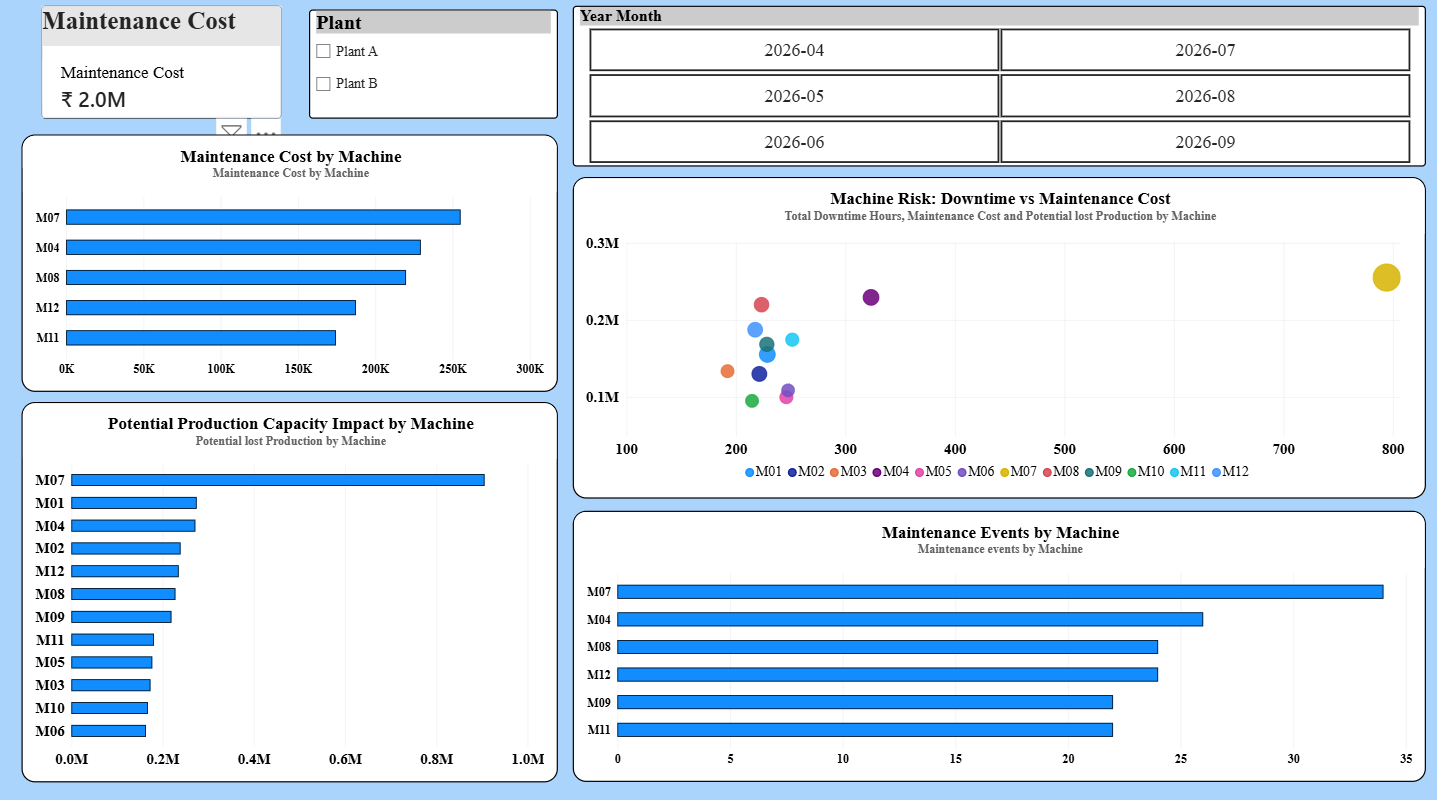

This screenshot's page, from the dashboard's own definition file:
{"tool":"powerbi","page":{"name":"Machine Performance & Risk","canvas":[1920,1080],"ordinal":2},"visuals":[{"type":"cardVisual","title":"Maintenance Cost","fields":{"Data":["Maintenance cleaned.Maintenance Cost"]},"box":[56.9,11.7,319.9,150.7],"z":0},{"type":"clusteredBarChart","title":"Maintenance Cost by Machine","fields":{"Category":["Machine Master cleaned.Machine"],"Y":["Maintenance cleaned.Maintenance Cost"]},"box":[30.1,182.6,715.2,343.4],"z":1000},{"type":"clusteredBarChart","title":"Maintenance Events by Machine","fields":{"Category":["Machine Master cleaned.Machine"],"Y":["Maintenance cleaned.Maintenance events"]},"box":[765.5,685.1,1137.3,361.8],"z":2000},{"type":"barChart","title":"Potential Production Capacity Impact by Machine","fields":{"Category":["Machine Master cleaned.Machine"],"Y":["Downtime cleaned.Potential lost Production"]},"box":[30.1,539.3,715.2,507.5],"z":3000},{"type":"slicer","fields":{"Values":["Date.Year Month"]},"box":[765.5,11.7,1137.3,214.4],"z":4000},{"type":"slicer","fields":{"Values":["Machine Master cleaned.Plant"]},"box":[413.7,16.7,331.6,145.7],"z":5000},{"type":"scatterChart","title":"Machine Risk: Downtime vs Maintenance Cost","fields":{"Series":["Machine Master cleaned.Machine"],"Size":["Downtime cleaned.Potential lost Production"],"X":["Downtime cleaned.Total Downtime Hours"],"Y":["Maintenance cleaned.Maintenance Cost"]},"box":[765.5,239.5,1137.3,428.8],"z":6000}]}

Visuals, with their boxes in screenshot pixels (x1, y1, x2, y2), scaled from the page's 1920x1080 canvas onto the 1437x800 screenshot:
"Maintenance Cost" cardVisual: pyautogui.locateOnScreen(43, 9, 282, 120)
"Maintenance Cost by Machine" clusteredBarChart: pyautogui.locateOnScreen(23, 135, 558, 390)
"Maintenance Events by Machine" clusteredBarChart: pyautogui.locateOnScreen(573, 507, 1424, 775)
"Potential Production Capacity Impact by Machine" barChart: pyautogui.locateOnScreen(23, 399, 558, 775)
slicer - Date.Year Month: pyautogui.locateOnScreen(573, 9, 1424, 167)
slicer - Machine Master cleaned.Plant: pyautogui.locateOnScreen(310, 12, 558, 120)
"Machine Risk: Downtime vs Maintenance Cost" scatterChart: pyautogui.locateOnScreen(573, 177, 1424, 495)
